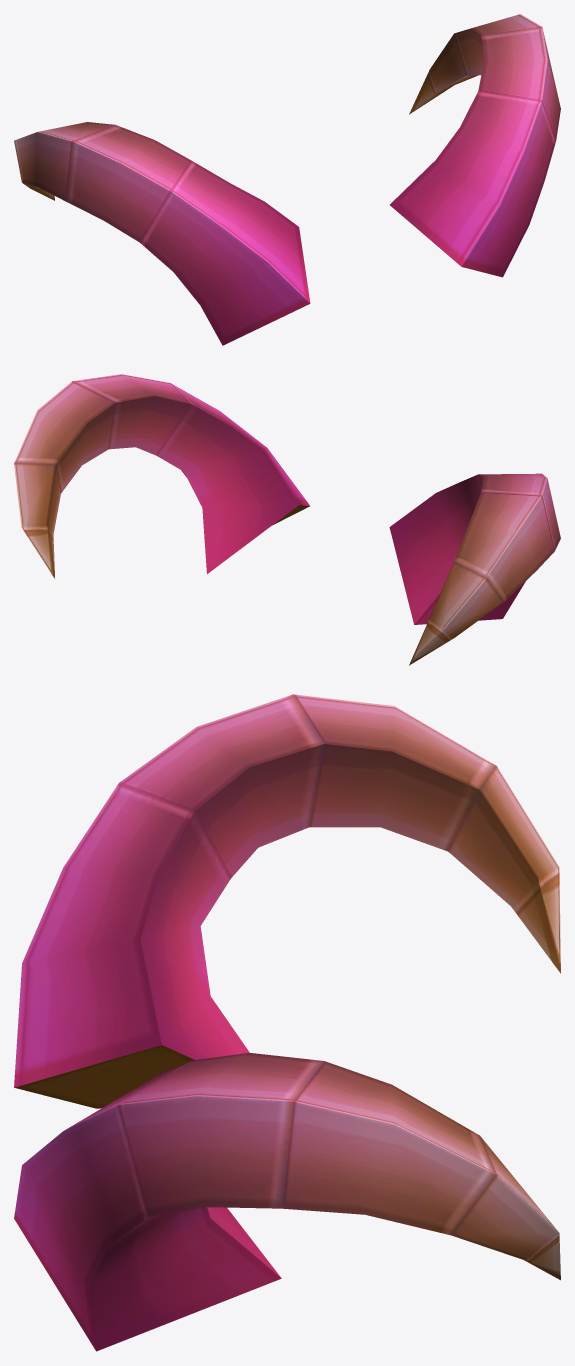
File: helm0015.fbx
3 views of the same model, one above another, from view 1: azimuth 30°, elevation 25°; view 2: azimuth 150°, elevation 25°; view 3: azimuth 270°, elevation 25° (orthographic). The views are drawn at different scales.
Visible parts, largest first — view 1: helm0015_m; view 2: helm0015_m; view 3: helm0015_m.
Part boxes in pixels (x1,y1,x2,y2): helm0015_m: (14, 14, 560, 345); helm0015_m: (14, 374, 560, 665); helm0015_m: (14, 694, 560, 1351).
Bounding box in the file's own units: 0.4855 × 0.1737 × 0.2593.
